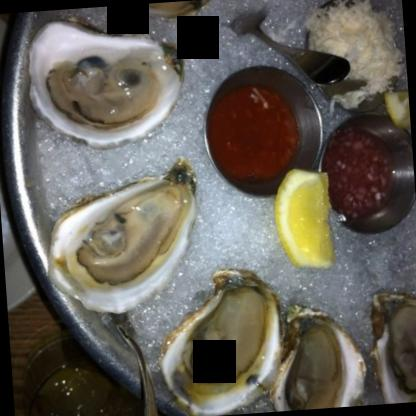lemon: (274, 168, 335, 271)
oyster: (41, 166, 205, 316), (25, 11, 188, 146), (153, 274, 284, 415), (258, 300, 367, 412), (367, 289, 415, 405)
